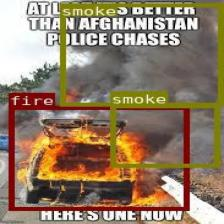fire: (8, 105, 188, 210)
smoke: (60, 3, 222, 105), (110, 104, 219, 167)
